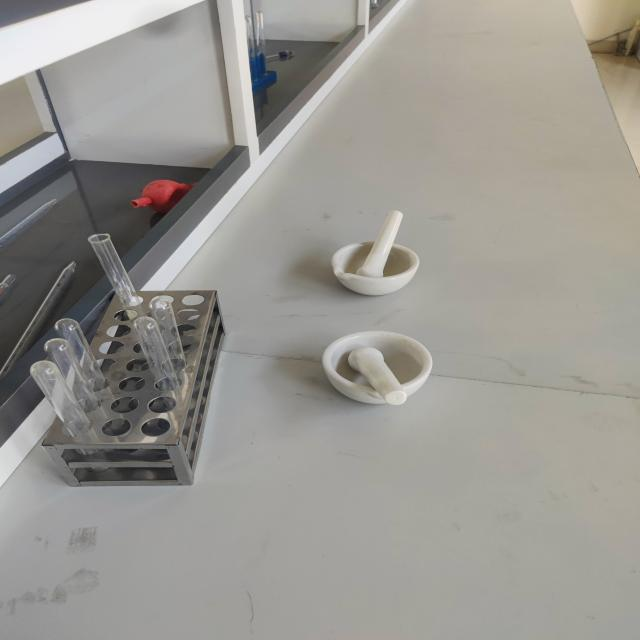Porcelain_Mortar Pestle: (299, 197, 463, 315), (299, 314, 451, 423)
